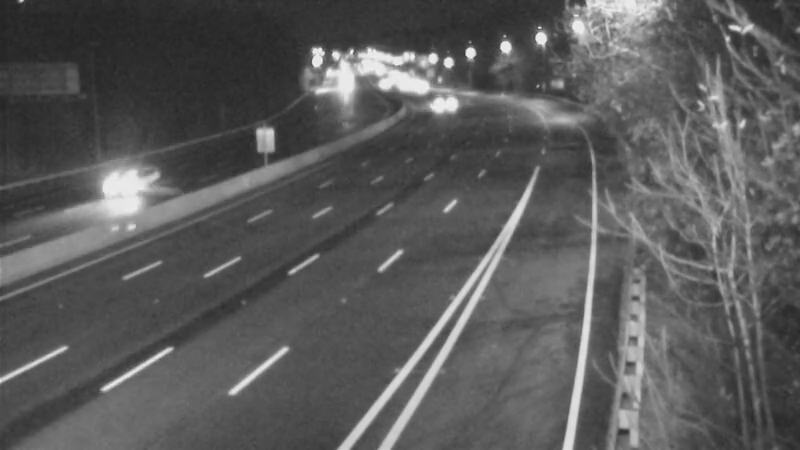vehicle: (77, 150, 157, 230), (419, 85, 469, 135)
